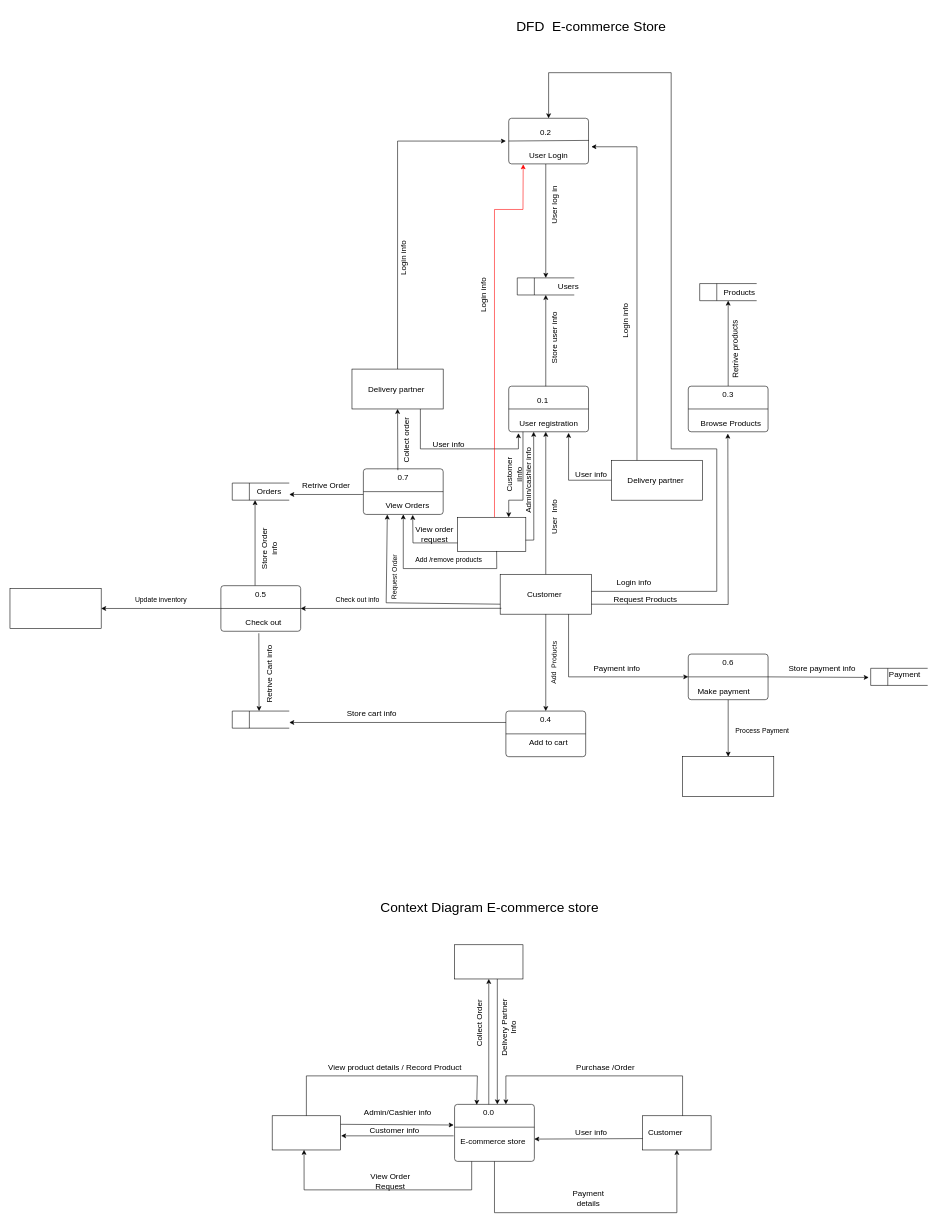
Some shapes in this 938 by 1227 pixel diagram are drawn without their labels. The shapes that lost their labels are listed below. From the top down, each one's centre as x and y in pixels, then its label:
point 491,534: Admin/cashier
point 55,608: Inventory System="products in stock"
point 260,719: Cart
point 728,776: Payment gateway
point 488,961: Dilivery Partner
point 306,1132: Admin chashier
